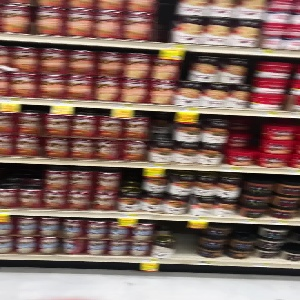void: (173, 218, 203, 261)
